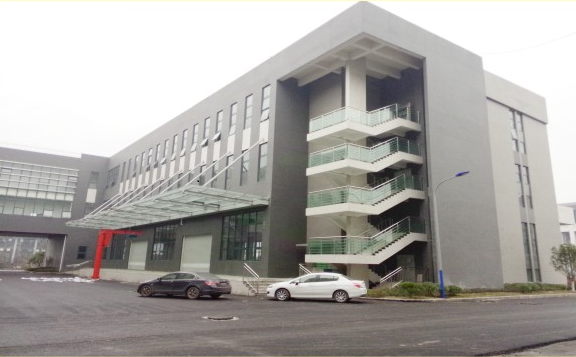car: (266, 271, 367, 303), (136, 271, 232, 299)
